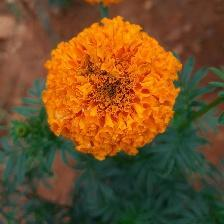marigold: (42, 17, 185, 162)
